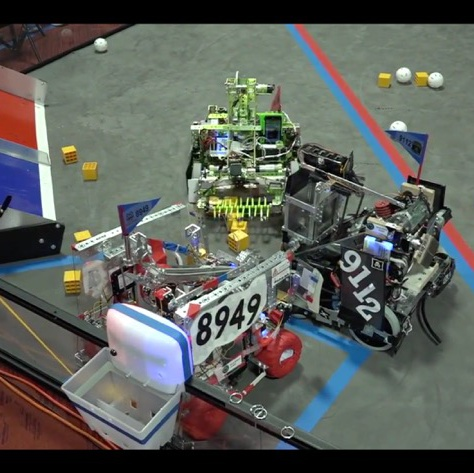robot: (102, 193, 307, 442), (260, 125, 459, 356), (181, 67, 309, 234)
